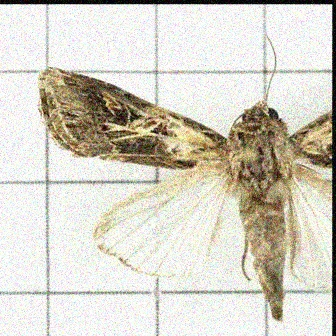Spodoptera litura: (36, 31, 332, 325)
